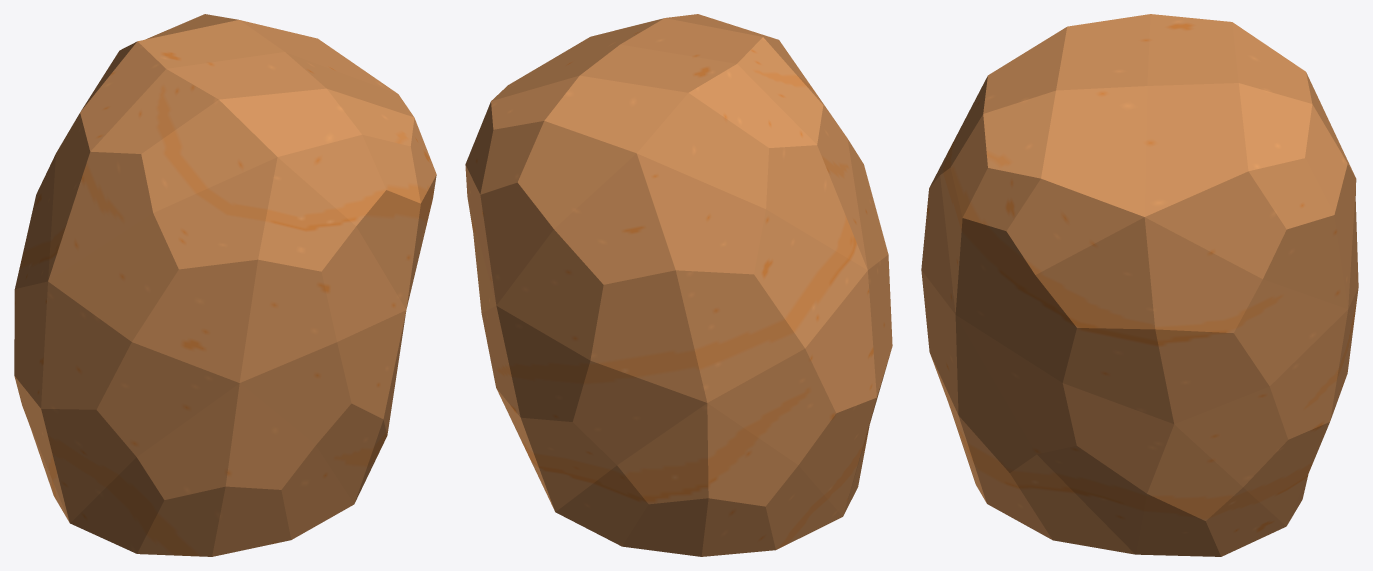
Rendered from rock5.fbx.
3 renders of one model, left to right at view 1: azimuth 30°, elevation 25°; view 2: azimuth 150°, elevation 25°; view 3: azimuth 270°, elevation 25°, orthographic. The views are drawn at different scales.
Parts seen in each view (by area): view 1: Plane; view 2: Plane; view 3: Plane.
Boxes of the visible parts, x1=… form: Plane: x1=14, y1=14, x2=436, y2=556; Plane: x1=465, y1=14, x2=892, y2=556; Plane: x1=921, y1=14, x2=1358, y2=556.
Size of the model in its own units: 63.15 by 72.23 by 61.17.
Materials: 1 (1 with a texture image).
